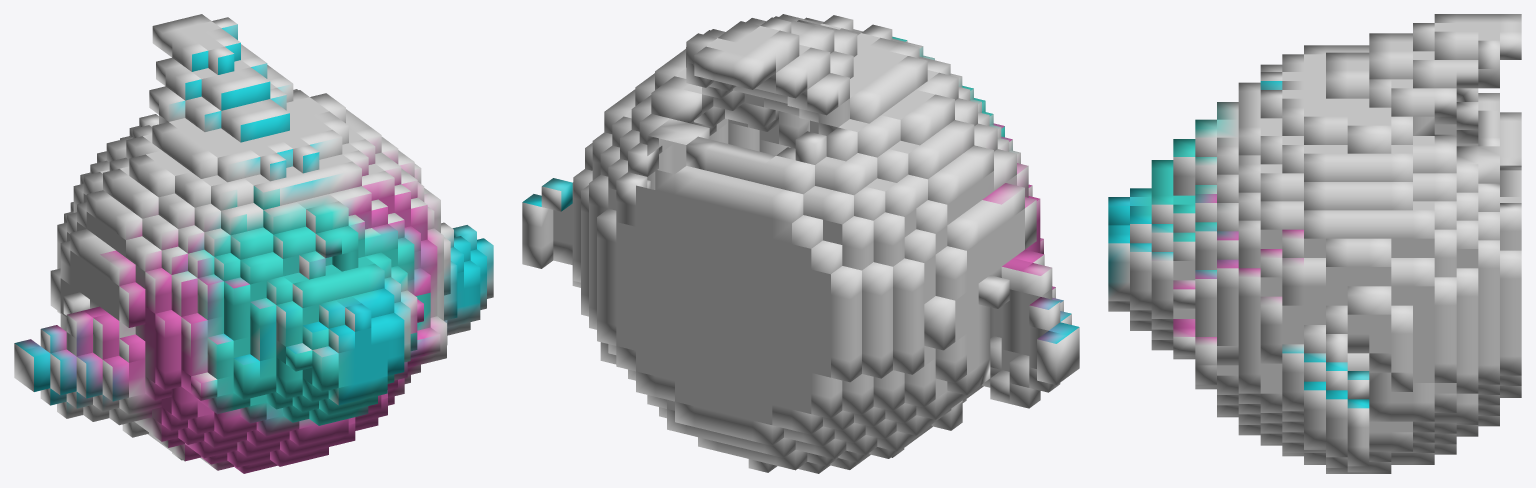
File: color.fbx
3 views of the same model, side by side, from view 1: azimuth 30°, elevation 25°; view 2: azimuth 150°, elevation 25°; view 3: azimuth 270°, elevation 25° (orthographic). The views are drawn at different scales.
Visible parts, largest first — view 1: _Combined Mesh [Voxel Mesh]; view 2: _Combined Mesh [Voxel Mesh]; view 3: _Combined Mesh [Voxel Mesh].
Part boxes in pixels (box(x1,y1,x2,y2)): _Combined Mesh [Voxel Mesh]: box(14, 14, 493, 473); _Combined Mesh [Voxel Mesh]: box(522, 14, 1079, 473); _Combined Mesh [Voxel Mesh]: box(1108, 14, 1521, 473).
Size of the model in its own units: 138 by 105 by 96.76.
